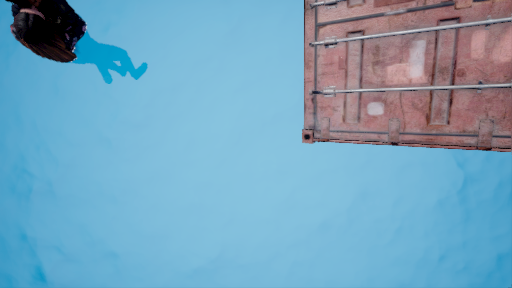person: (6, 4, 145, 84)
